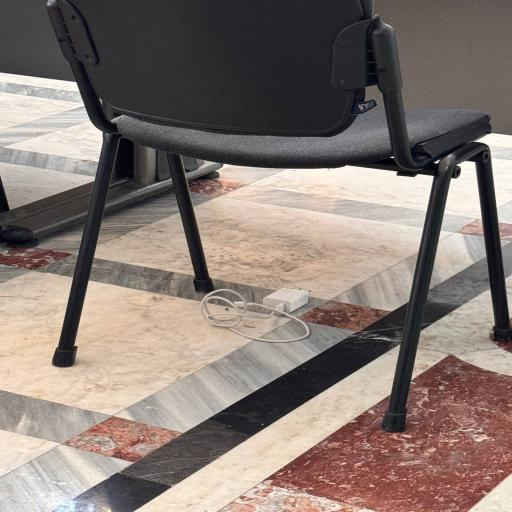bus: (47, 0, 510, 431)
